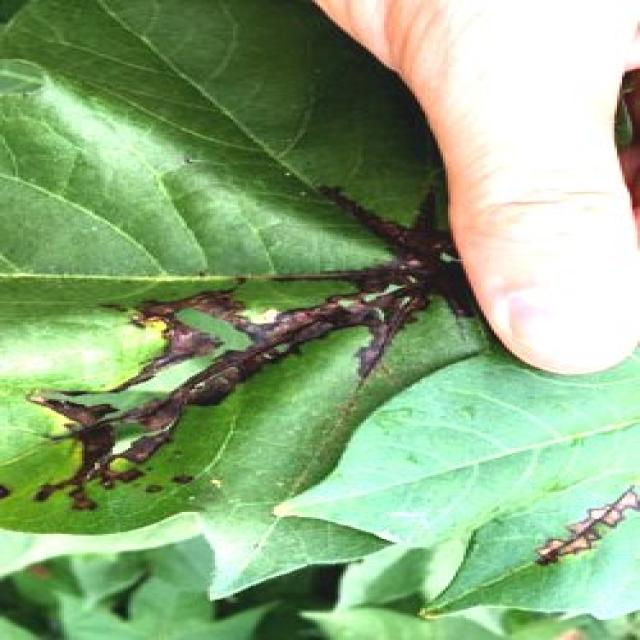Bacterial Blight: (48, 206, 430, 512)
